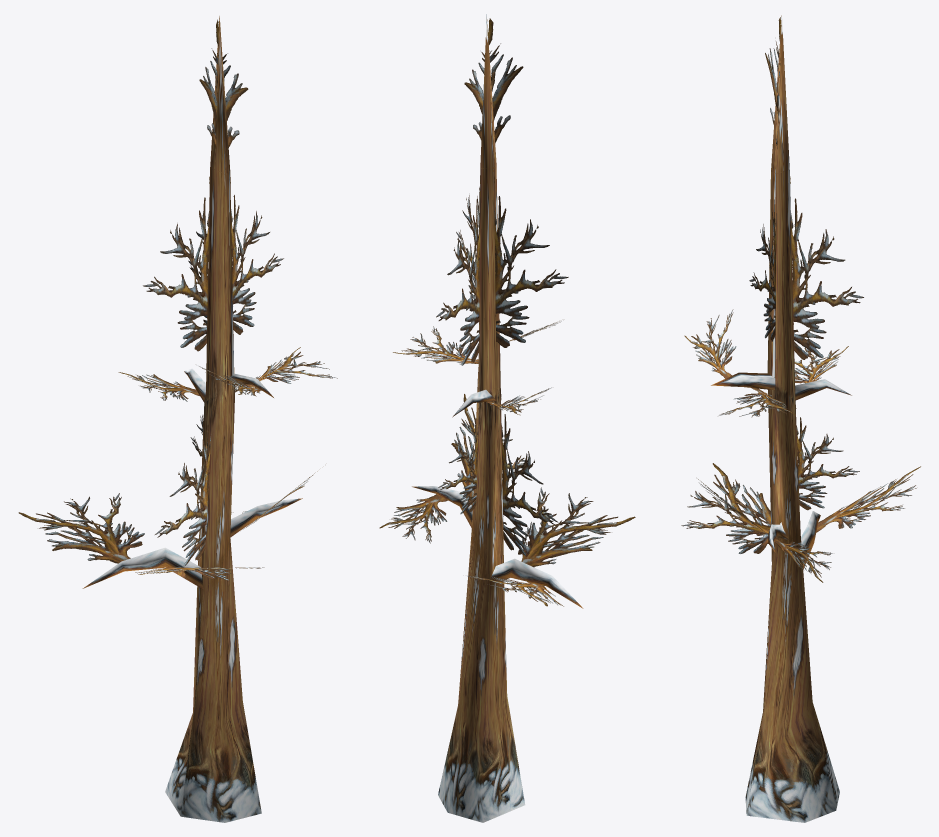
Rendered from wintertree04.obj.
3 views of the same model, side by side, from view 1: azimuth 30°, elevation 25°; view 2: azimuth 150°, elevation 25°; view 3: azimuth 270°, elevation 25° (orthographic).
Parts seen in each view (by area): view 1: WINTERTREE040, WINTERTREE042, WINTERTREE041; view 2: WINTERTREE040, WINTERTREE042, WINTERTREE041; view 3: WINTERTREE040, WINTERTREE042, WINTERTREE041.
Part boxes in pixels (x1=…): WINTERTREE040: x1=165, y1=16, x2=261, y2=822; WINTERTREE042: x1=18, y1=19, x2=337, y2=580; WINTERTREE041: x1=82, y1=368, x2=302, y2=589; WINTERTREE040: x1=438, y1=14, x2=525, y2=822; WINTERTREE042: x1=379, y1=18, x2=635, y2=606; WINTERTREE041: x1=412, y1=389, x2=583, y2=608; WINTERTREE040: x1=745, y1=15, x2=839, y2=822; WINTERTREE042: x1=681, y1=17, x2=920, y2=582; WINTERTREE041: x1=711, y1=372, x2=851, y2=568.
Bounding box in the file's own units: 14.98 × 50.01 × 14.68.
3 materials, 3 textured.
